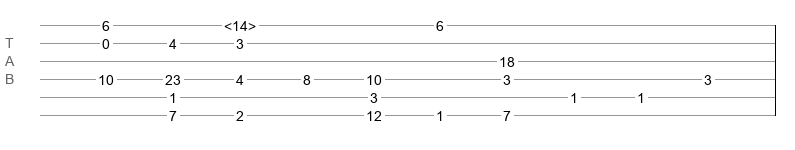0: (102, 36, 110, 46)
1: (169, 90, 177, 100), (436, 108, 444, 118), (570, 90, 578, 100), (637, 90, 645, 100)
10: (98, 72, 114, 82), (366, 72, 382, 82)
12: (366, 108, 382, 118)
18: (499, 54, 515, 64)
2: (236, 108, 244, 118)
23: (165, 72, 181, 82)
3: (236, 36, 244, 46), (370, 90, 378, 100), (503, 72, 511, 82), (704, 72, 712, 82)
4: (169, 36, 177, 46), (236, 72, 244, 82)
6: (102, 18, 110, 28), (436, 18, 444, 28)
7: (169, 108, 177, 118), (503, 108, 511, 118)
8: (303, 72, 311, 82)
harmonic: (224, 18, 256, 28)
